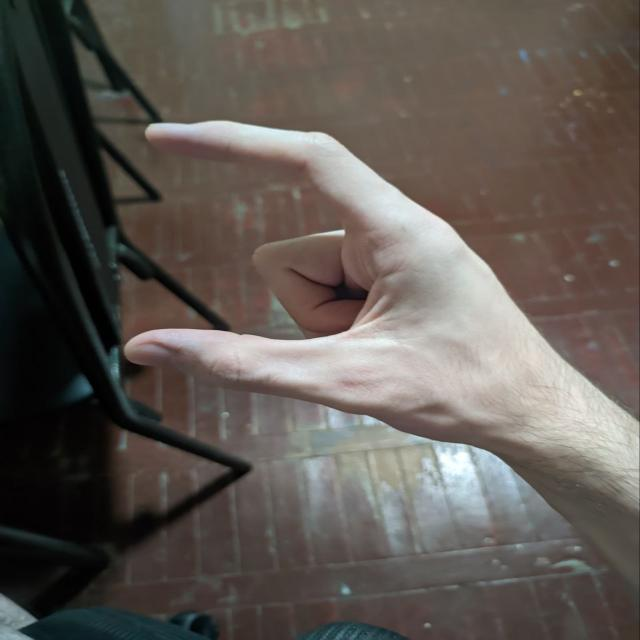uh: (130, 104, 566, 465)
